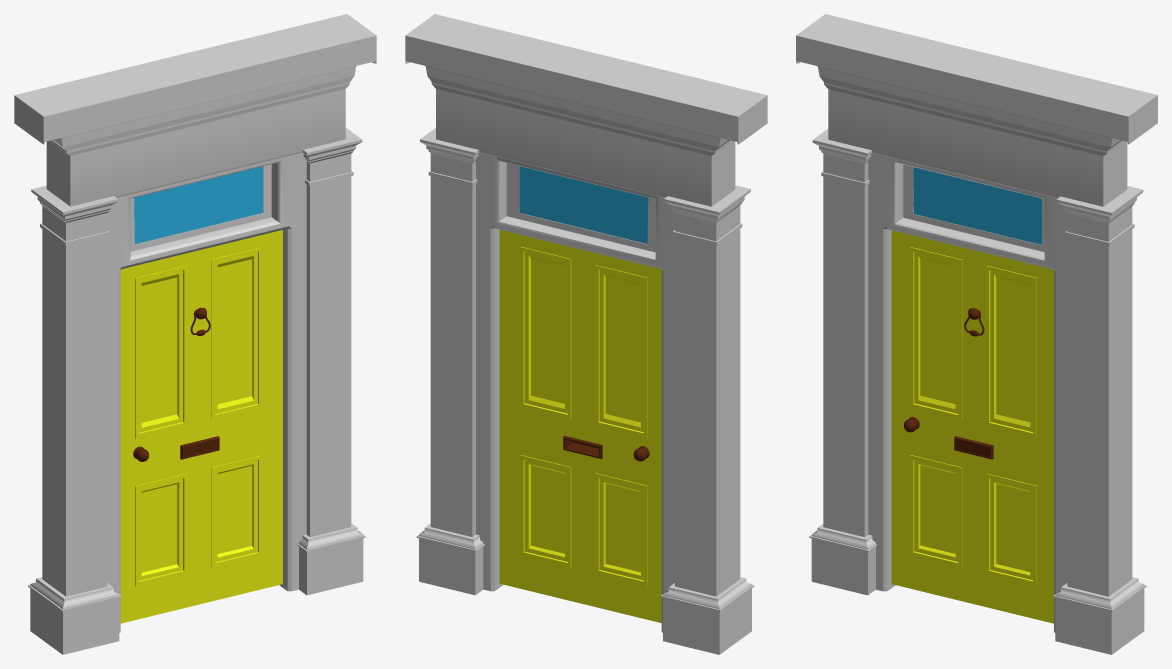
The model's file is Door_ToUnity.FBX.
3 views of the same model, side by side, from view 1: azimuth 30°, elevation 25°; view 2: azimuth 150°, elevation 25°; view 3: azimuth 330°, elevation 25° (orthographic).
Visible parts, largest first — view 1: Door, Box003, Box002, Box004, Box001, Box005, Glass; view 2: Door, Box003, Box002, Box004, Box001, Box005, Glass; view 3: Door, Box002, Box003, Box004, Box001, Box005, Glass.
Boxes of the visible parts, x1=… form: Door: x1=120, y1=230, x2=282, y2=623; Box003: x1=28, y1=185, x2=121, y2=654; Box002: x1=297, y1=128, x2=365, y2=595; Box004: x1=46, y1=66, x2=356, y2=206; Box001: x1=107, y1=152, x2=306, y2=632; Box005: x1=14, y1=14, x2=376, y2=144; Glass: x1=134, y1=166, x2=262, y2=244; Door: x1=499, y1=230, x2=661, y2=622; Box003: x1=660, y1=185, x2=754, y2=654; Box002: x1=416, y1=128, x2=484, y2=595; Box004: x1=425, y1=66, x2=735, y2=206; Box001: x1=476, y1=152, x2=674, y2=632; Box005: x1=405, y1=14, x2=767, y2=144; Glass: x1=519, y1=166, x2=648, y2=243; Door: x1=891, y1=230, x2=1053, y2=623; Box002: x1=1053, y1=186, x2=1146, y2=654; Box003: x1=809, y1=129, x2=877, y2=595; Box004: x1=818, y1=66, x2=1127, y2=206; Box001: x1=868, y1=153, x2=1067, y2=632; Box005: x1=796, y1=14, x2=1157, y2=144; Glass: x1=913, y1=167, x2=1041, y2=244.
Size of the model in its own units: 85.47 by 133 by 15.22.
